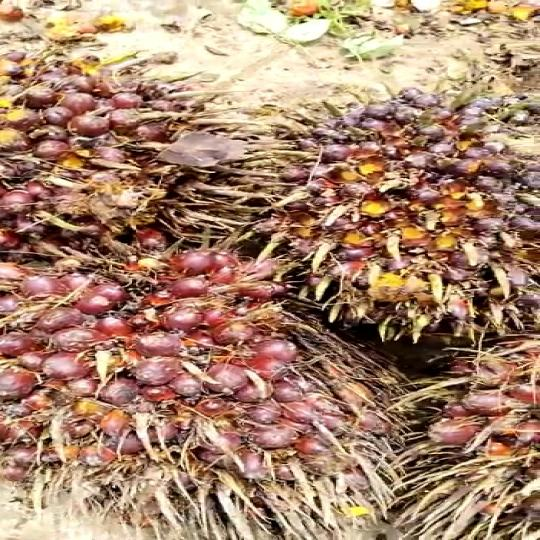masak: (0, 246, 417, 516), (253, 90, 540, 338), (0, 48, 247, 263)
